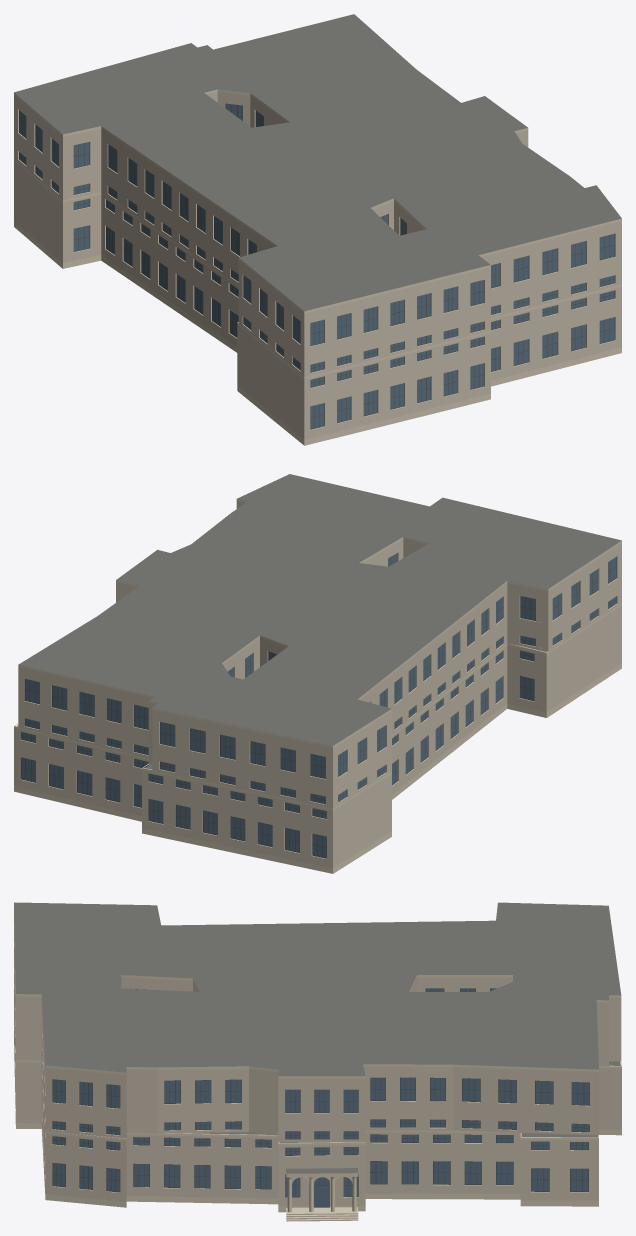
Rendered from dc-au-mary-graydon-student-center.detail.glb.
3 views of the same model, one above another, from view 1: azimuth 30°, elevation 25°; view 2: azimuth 150°, elevation 25°; view 3: azimuth 270°, elevation 25° (orthographic). The views are drawn at different scales.
Parts seen in each view (by area): view 1: Mary Graydon Student Center; view 2: Mary Graydon Student Center; view 3: Mary Graydon Student Center.
Boxes of the visible parts, x1,y1,x2,y2 form: Mary Graydon Student Center: (14, 14, 621, 445); Mary Graydon Student Center: (14, 474, 621, 873); Mary Graydon Student Center: (14, 902, 621, 1221).
Bounding box in the file's own units: 54.55 × 18.6 × 76.06.
